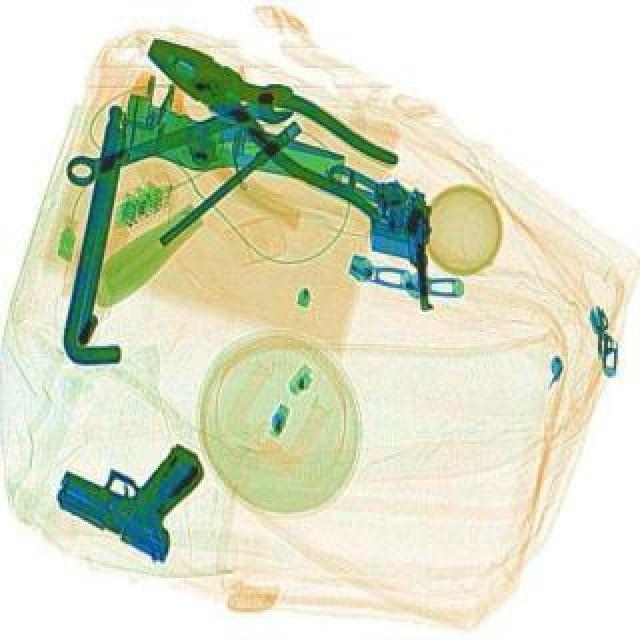gun: (40, 410, 222, 570), (328, 172, 430, 316)
scissors: (58, 82, 304, 202)
wrench: (124, 18, 416, 230)
